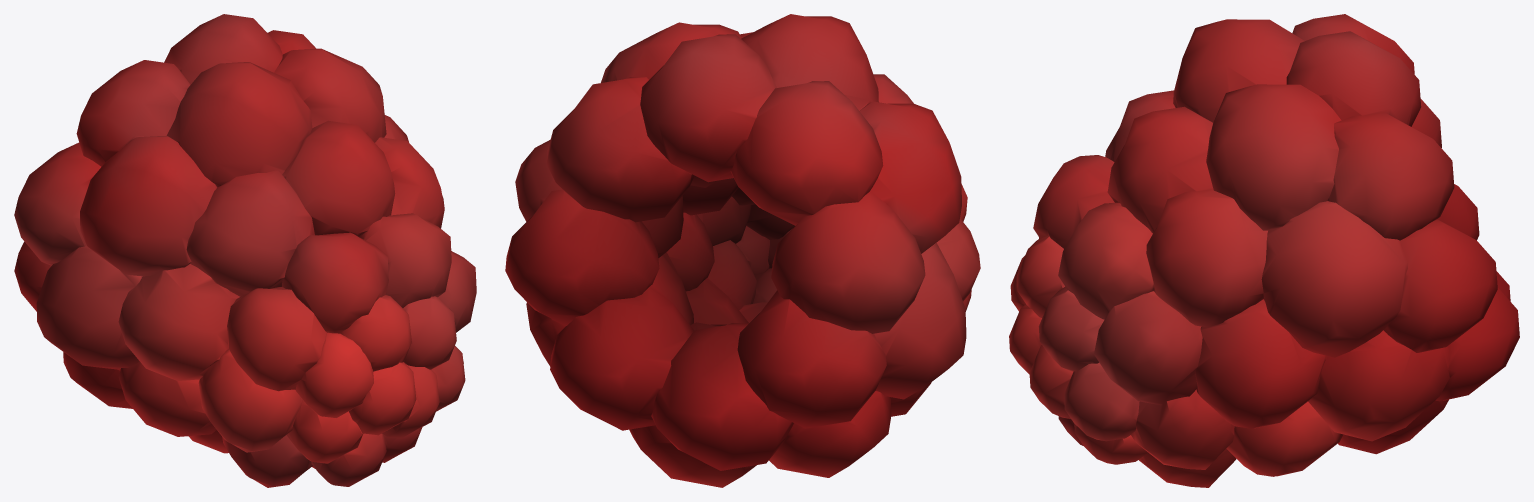
File: blackberry.fbx
3 views of the same model, side by side, from view 1: azimuth 30°, elevation 25°; view 2: azimuth 150°, elevation 25°; view 3: azimuth 270°, elevation 25° (orthographic). The views are drawn at different scales.
Visible parts, largest first — view 1: Cube.001; view 2: Cube.001; view 3: Cube.001.
Boxes of the visible parts, x1=… form: Cube.001: x1=14, y1=14, x2=476, y2=487; Cube.001: x1=505, y1=14, x2=980, y2=487; Cube.001: x1=1009, y1=14, x2=1519, y2=487.
Size of the model in its own units: 61.03 by 62.24 by 66.94.
